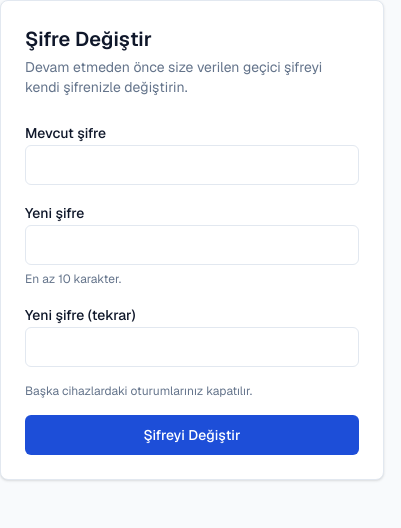
ChangePasswordForm › asks for the current password
The image size is (401, 528).
Click the button "Şifreyi Değiştir". click: click(192, 435)
box: [25,415,359,455]
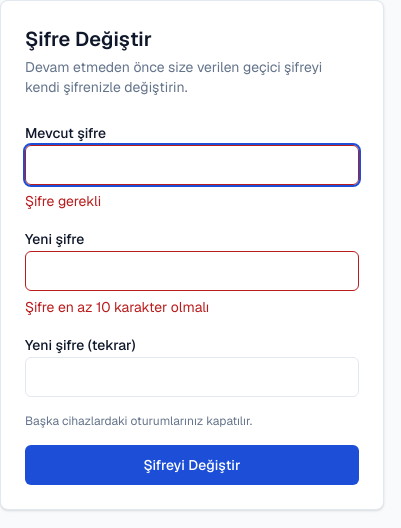
Expected: the text "Şifre gerekli" is shown, [25,192,101,210]
